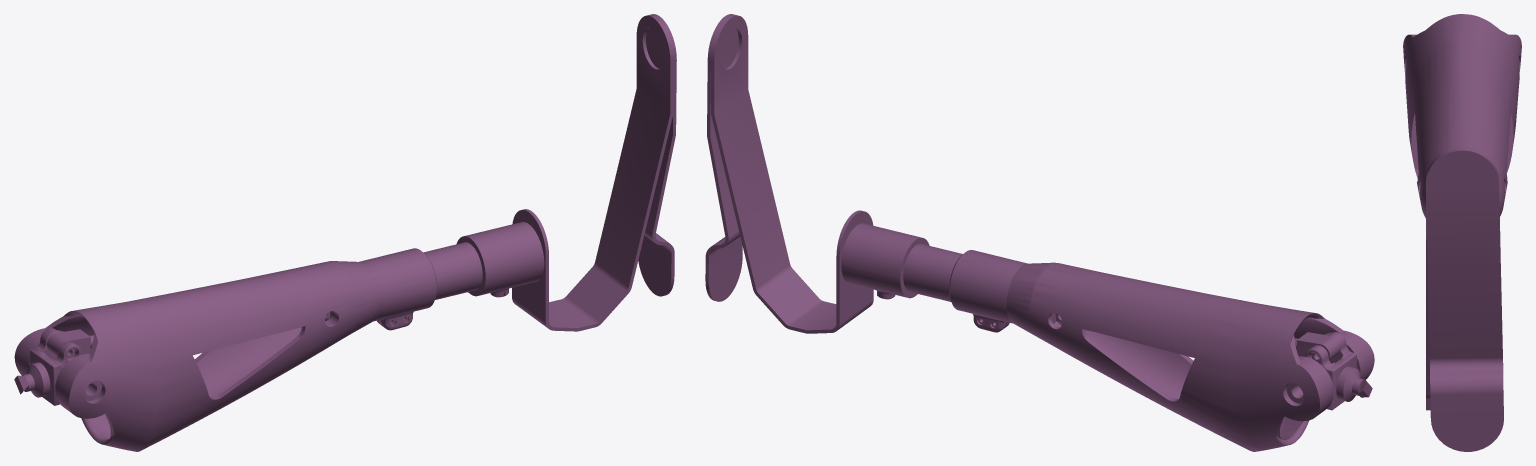
File: advanced_prosthetic_leg_design.glb
3 renders of one model, left to right at view 1: azimuth 30°, elevation 25°; view 2: azimuth 150°, elevation 25°; view 3: azimuth 270°, elevation 25°, orthographic. The views are drawn at different scales.
Visible parts, largest first — view 1: Object_2; view 2: Object_2; view 3: Object_2.
Part boxes in pixels (bbox=[...]): Object_2: bbox=[14, 14, 676, 451]; Object_2: bbox=[705, 14, 1374, 451]; Object_2: bbox=[1403, 14, 1521, 451].
Bounding box in the file's own units: 601 × 271 × 89.19.
